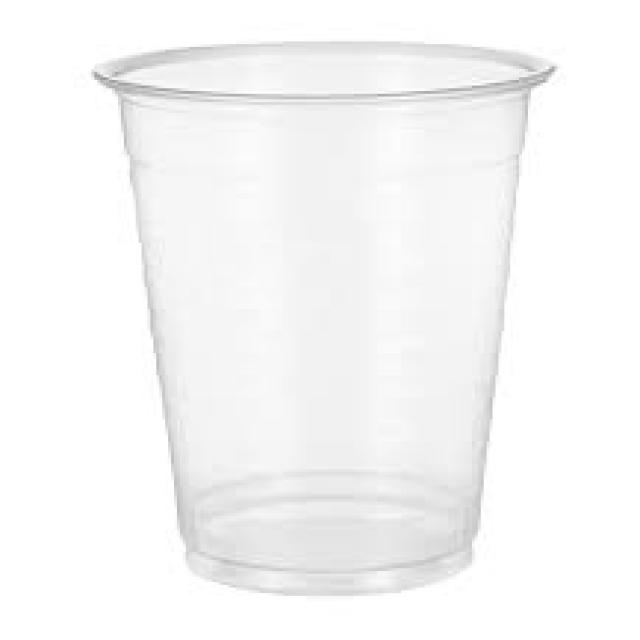cup: (89, 39, 563, 598)
